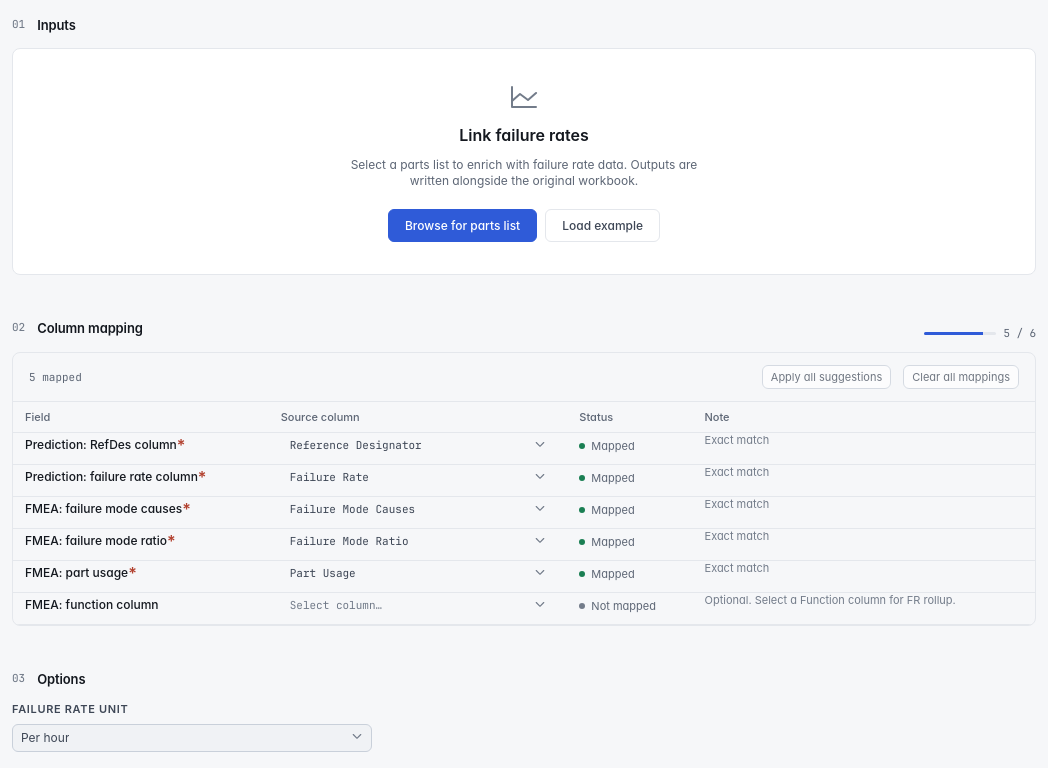
FailureRateTool stale validation handling › Load example reveals the staged demo content in browser preview
Click the button "Load example".
click(603, 225)  # box x1=545 y1=209 x2=660 y2=242
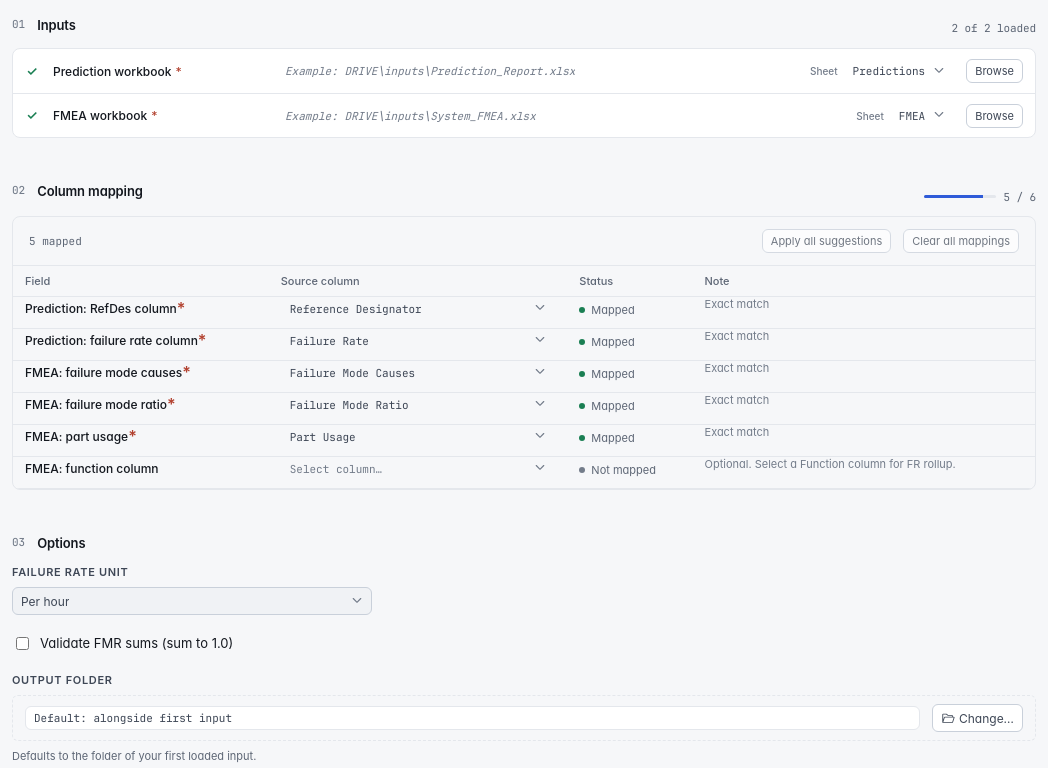
Check: the button "Load example" is gone
Check: the text "Example: DRIVE\\inputs\\Prediction_Report.xlsx" is shown, box x1=285 y1=64 x2=575 y2=78
